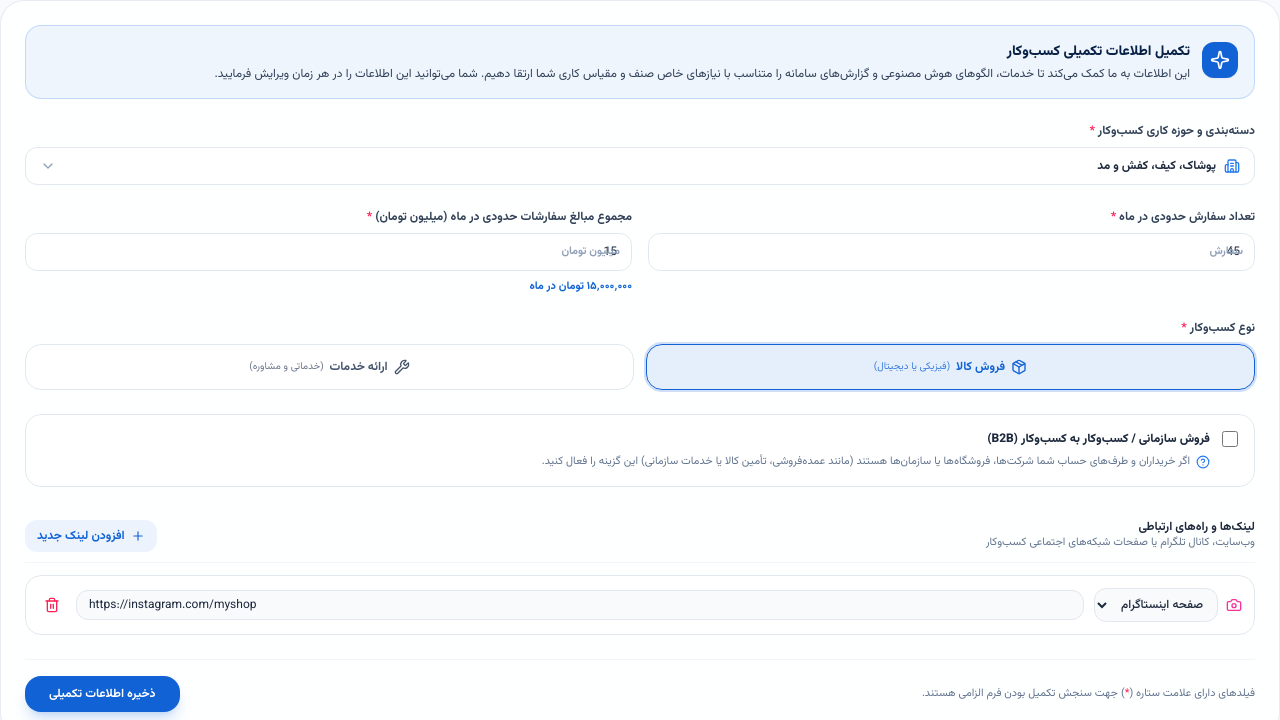
Test case: [component] BusinessProfileForm Component › updates the monthly revenue and shows the Toman conversion
Step 1. Replace the text in the 1st number field showing "15" with "20" → (328,252), box x1=25 y1=233 x2=632 y2=271
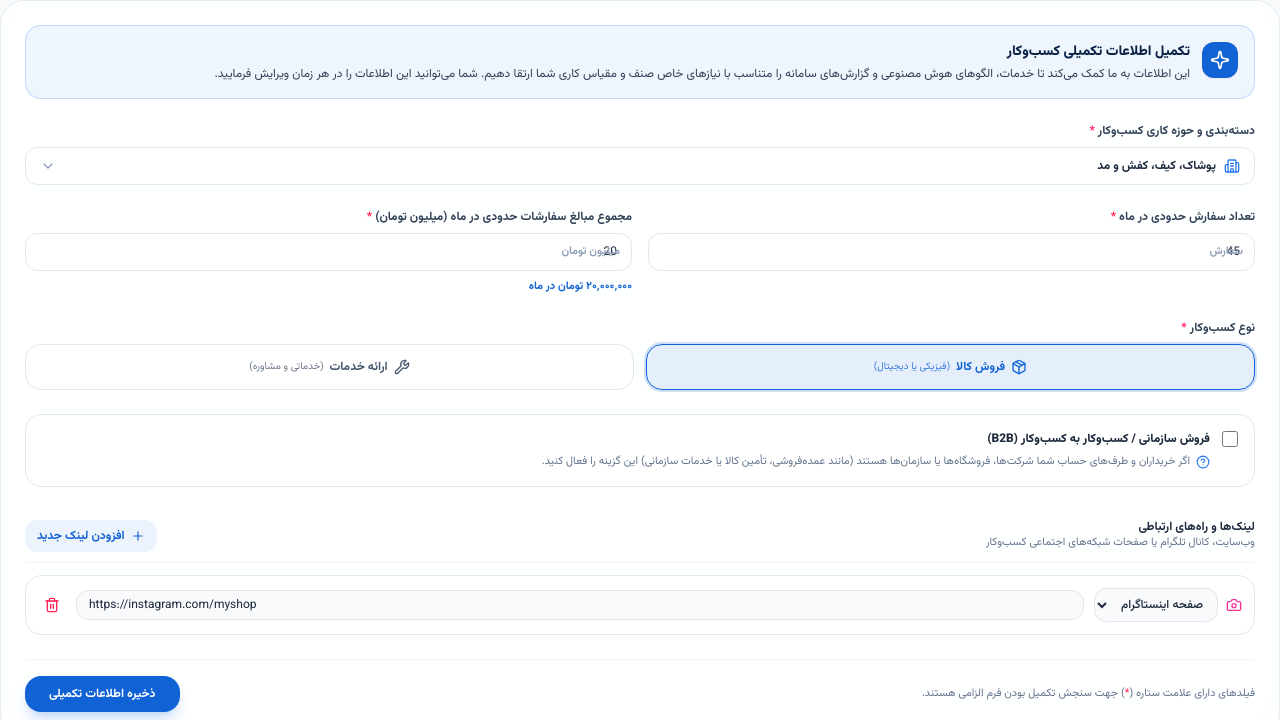
Now the text "۲۰٬۰۰۰٬۰۰۰ تومان در ماه" is shown, box x1=529 y1=278 x2=632 y2=295
